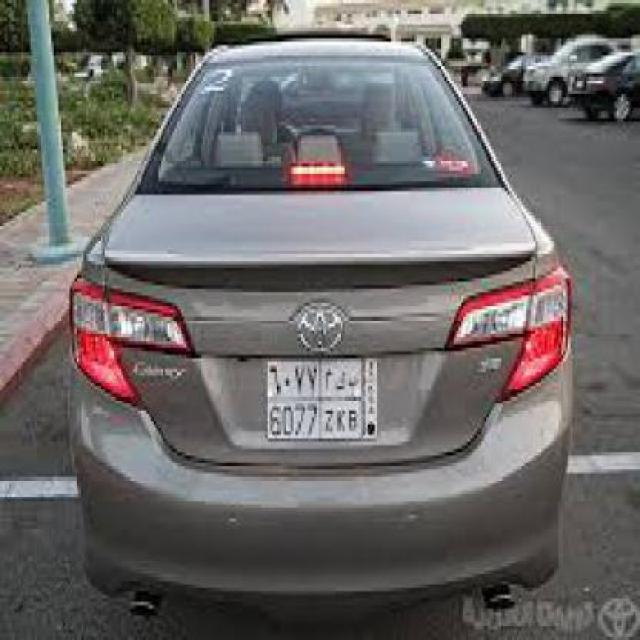license_plate: (263, 352, 382, 446)
